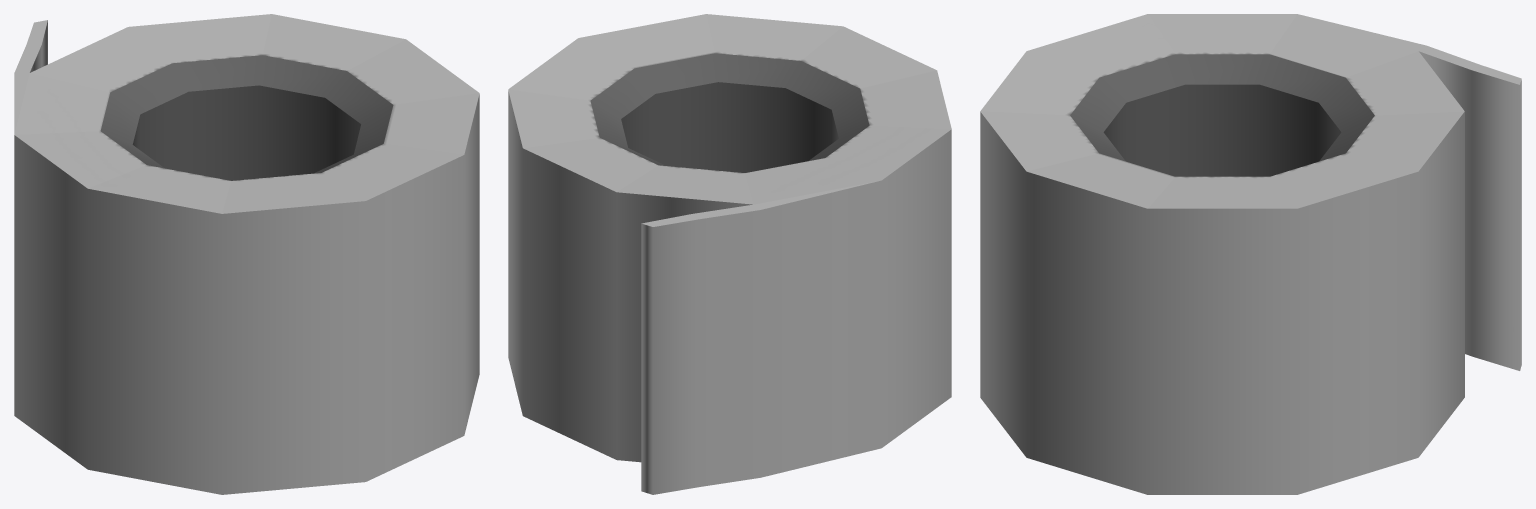
The model's file is Tape1.fbx.
The picture shows the model from 3 angles, left to right: view 1: azimuth 30°, elevation 25°; view 2: azimuth 150°, elevation 25°; view 3: azimuth 270°, elevation 25°; orthographic projection. The views are drawn at different scales.
Parts seen in each view (by area): view 1: 柱体; view 2: 柱体; view 3: 柱体.
Boxes of the visible parts, bbox=[...] form: 柱体: bbox=[14, 14, 479, 494]; 柱体: bbox=[508, 14, 951, 494]; 柱体: bbox=[980, 14, 1521, 494].
Bounding box in the file's own units: 14.62 × 10.02 × 17.18.
Materials: 1 (1 with a texture image).
